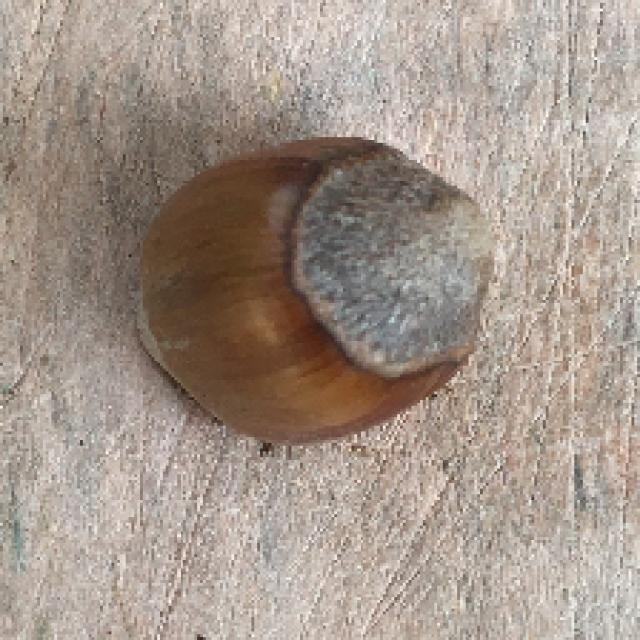damagedHazelnut: (133, 133, 492, 453)
